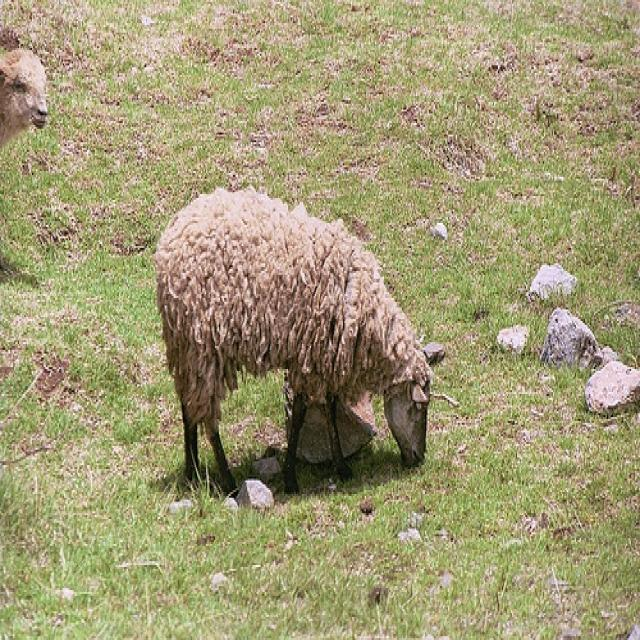sheep: (159, 182, 453, 503), (1, 40, 59, 154)
